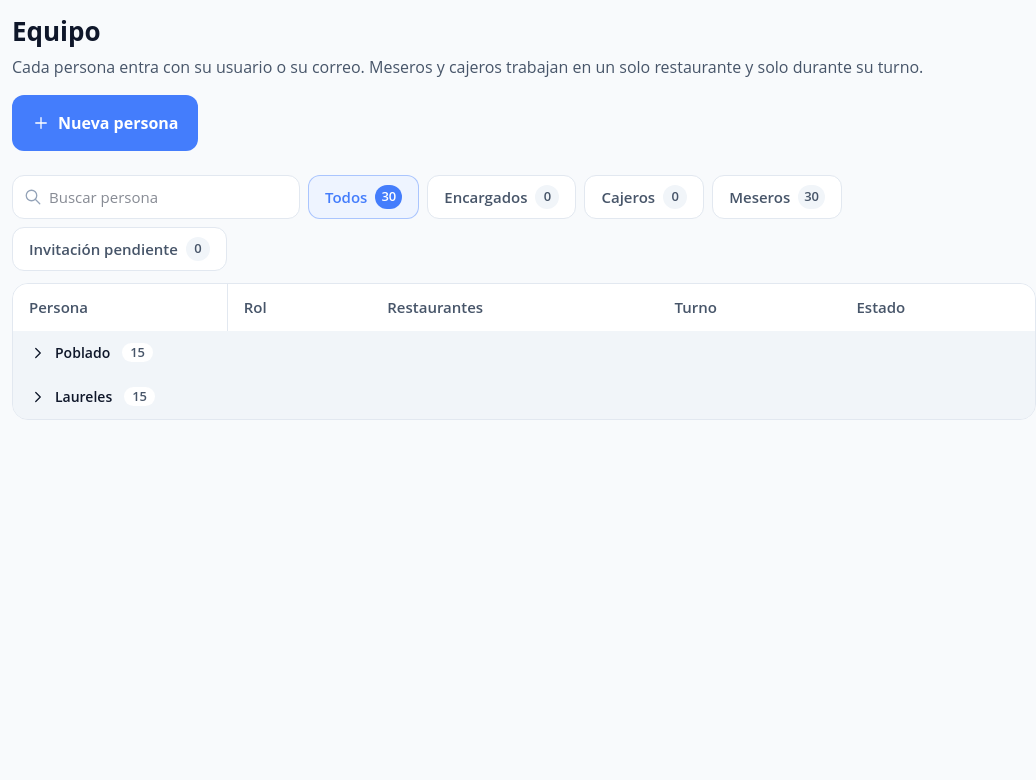
Test: con muchas personas los grupos empiezan cerrados y la búsqueda los abre
Click the button "Poblado 15" at [91, 352], box [13,330,169,374]
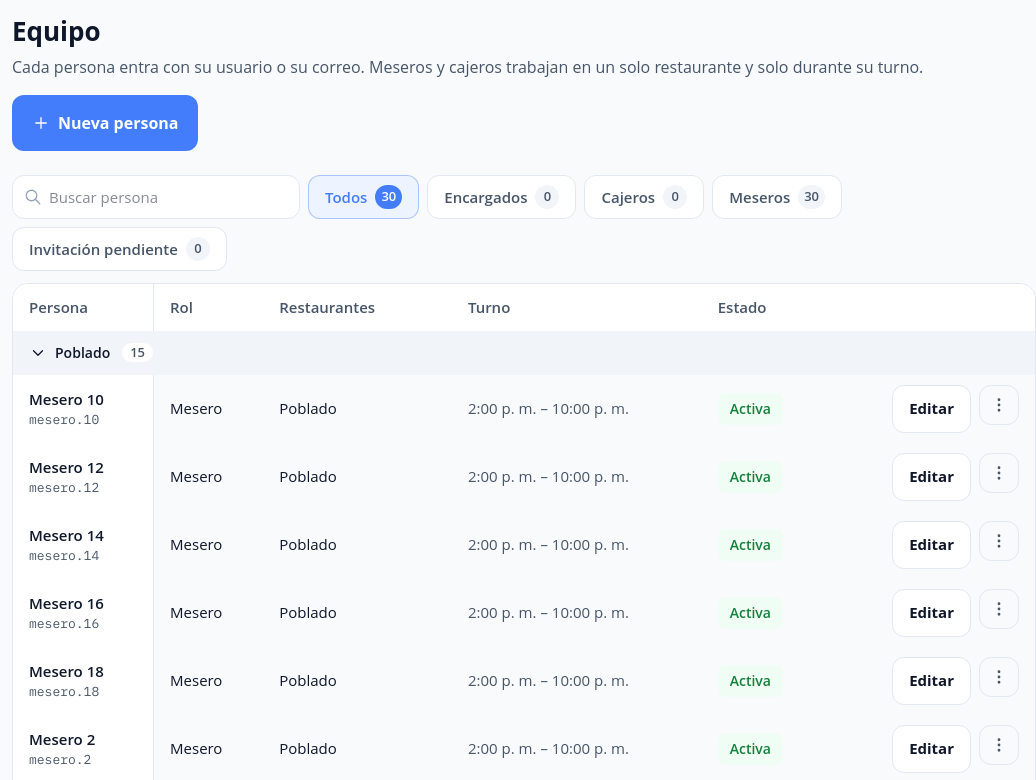
Type "mesero.7" into the search field labelled "Buscar persona" at [156, 197], box [12,175,300,219]
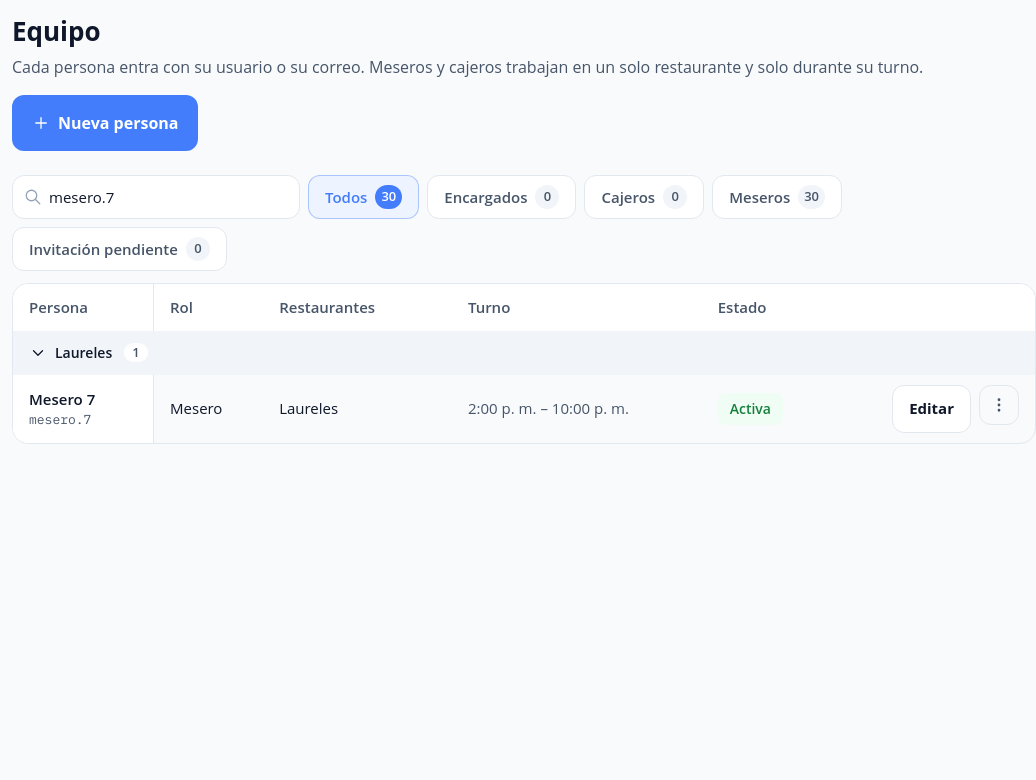
Expected: the row that starts with "Mesero 7" is shown, [13,374,1035,442]
